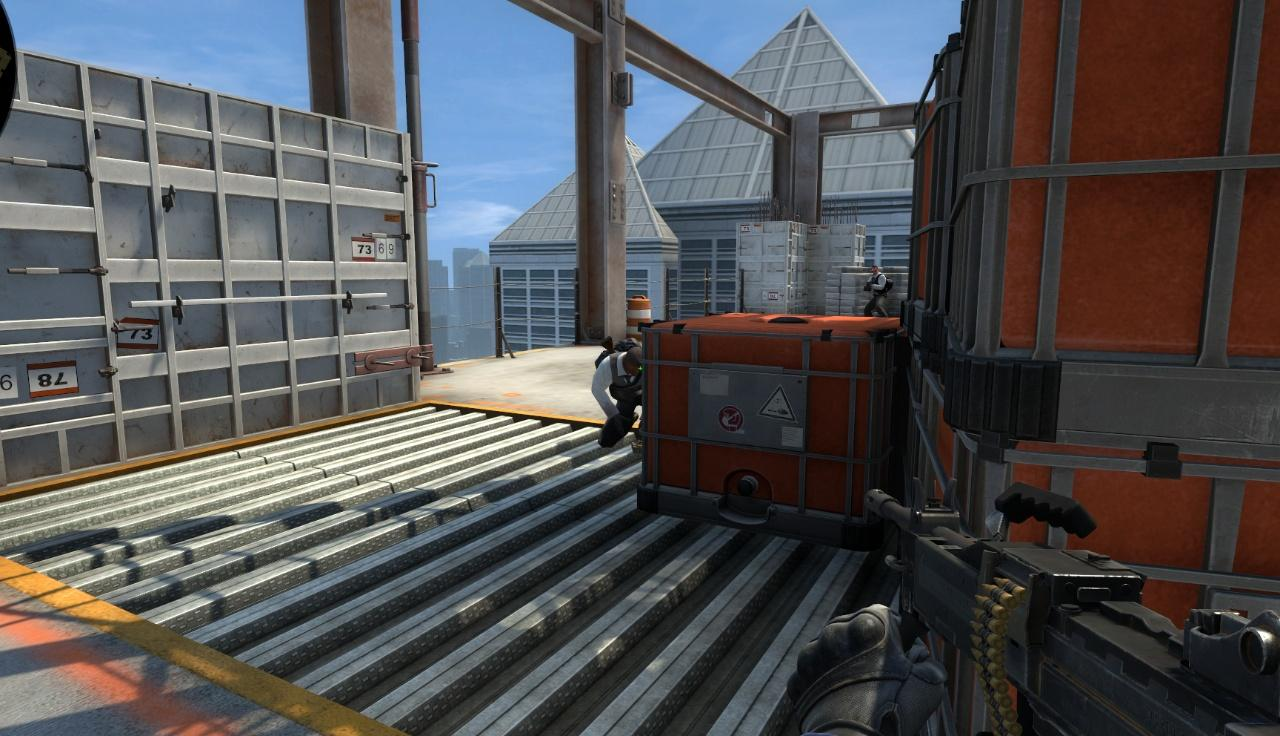rifle: (854, 470, 1280, 736)
tt: (594, 336, 646, 458), (866, 265, 888, 317)
tthead: (624, 346, 644, 377), (871, 266, 879, 276)
